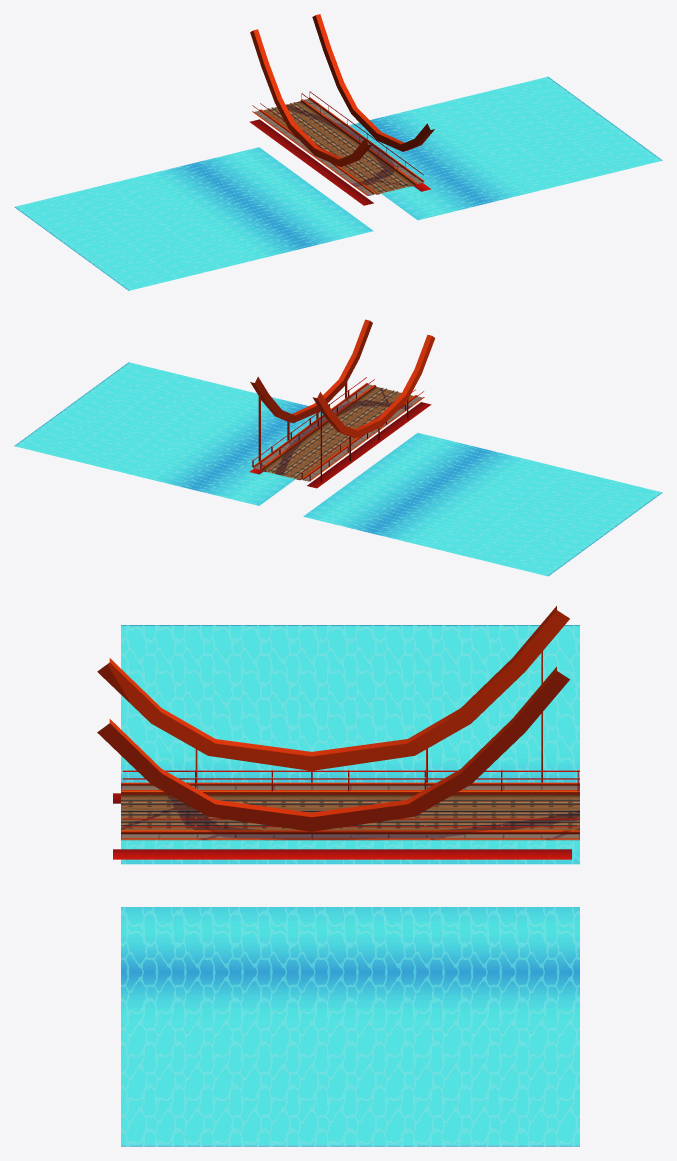
File: 1.100_SanFrancisco_epic_mid.glb
3 renders of one model, top to bottom at view 1: azimuth 30°, elevation 25°; view 2: azimuth 150°, elevation 25°; view 3: azimuth 270°, elevation 25°, orthographic. The views are drawn at different scales.
Visible parts, largest first — view 1: 1.100_SanFrancisco_epic_mid; view 2: 1.100_SanFrancisco_epic_mid; view 3: 1.100_SanFrancisco_epic_mid.
Boxes of the visible parts, box(x1,y1,x2,y2) form: 1.100_SanFrancisco_epic_mid: box(14, 14, 662, 290); 1.100_SanFrancisco_epic_mid: box(14, 319, 662, 576); 1.100_SanFrancisco_epic_mid: box(97, 606, 579, 1146).
Size of the model in its own units: 968 by 214 by 379.
Materials: 4 (4 with a texture image).
